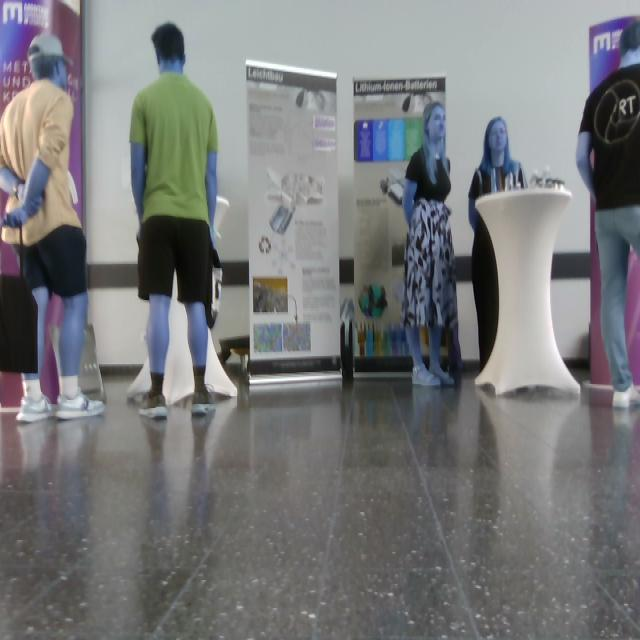door: (245, 59, 343, 381)
light bulb: (265, 165, 323, 235), (268, 190, 295, 234), (212, 193, 229, 239), (295, 86, 325, 110), (379, 176, 403, 205), (401, 91, 431, 113)
person: (0, 31, 105, 421), (128, 21, 219, 419), (575, 17, 639, 408), (401, 100, 461, 387), (467, 116, 528, 373)
pillar: (473, 184, 580, 396)
tiled floor: (0, 361, 639, 639)
